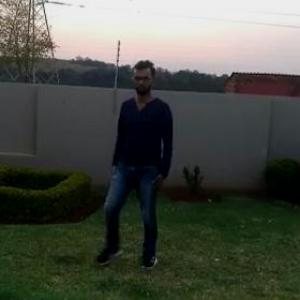follow: (116, 60, 184, 272)
